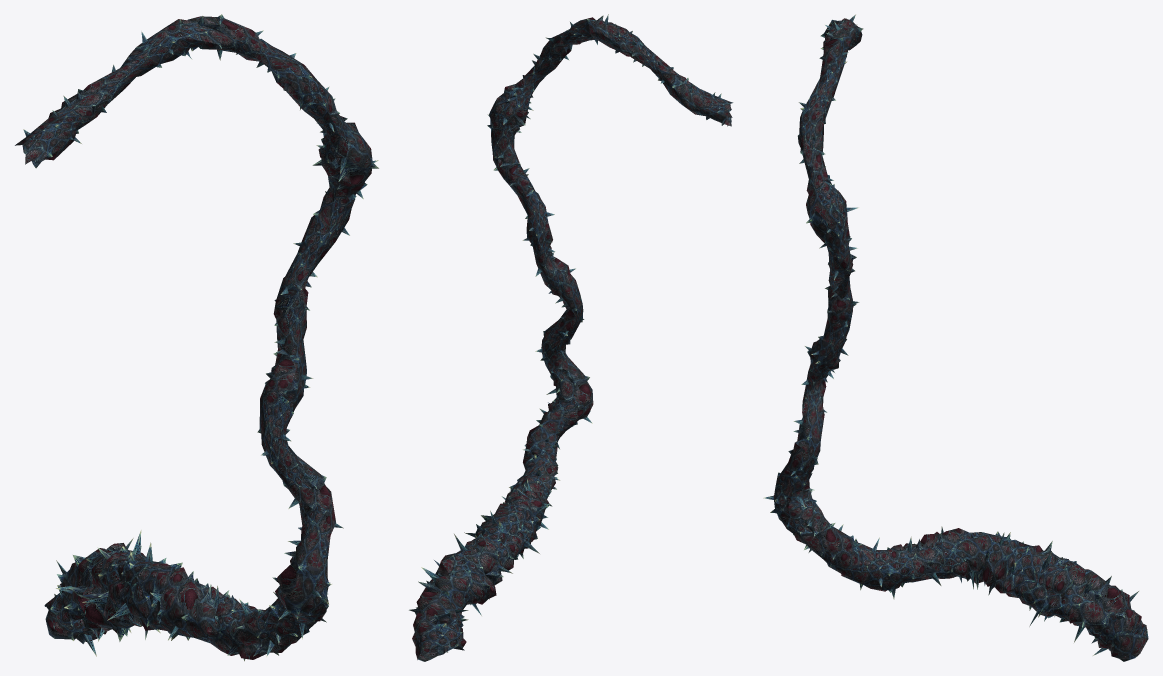
The model's file is 02_09_Makaizyu_01.fbx.
3 renders of one model, left to right at view 1: azimuth 30°, elevation 25°; view 2: azimuth 150°, elevation 25°; view 3: azimuth 270°, elevation 25°, orthographic. The views are drawn at different scales.
Visible parts, largest first — view 1: LODGroup_3_MainMesh_1_SubMesh_1, LODGroup_3_MainMesh_1_SubMesh_2; view 2: LODGroup_3_MainMesh_1_SubMesh_1, LODGroup_3_MainMesh_1_SubMesh_2; view 3: LODGroup_3_MainMesh_1_SubMesh_1, LODGroup_3_MainMesh_1_SubMesh_2.
Boxes of the visible parts, x1=… form: LODGroup_3_MainMesh_1_SubMesh_1: x1=22, y1=16, x2=378, y2=661; LODGroup_3_MainMesh_1_SubMesh_2: x1=15, y1=14, x2=378, y2=655; LODGroup_3_MainMesh_1_SubMesh_1: x1=409, y1=14, x2=731, y2=661; LODGroup_3_MainMesh_1_SubMesh_2: x1=426, y1=19, x2=733, y2=655; LODGroup_3_MainMesh_1_SubMesh_1: x1=763, y1=14, x2=1148, y2=661; LODGroup_3_MainMesh_1_SubMesh_2: x1=770, y1=18, x2=1122, y2=650.
Size of the model in its own units: 1703 by 3591 by 2047.
